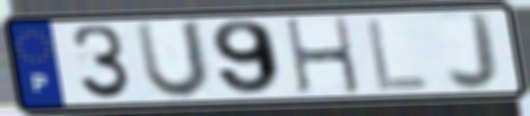3: (68, 23, 135, 103)
9: (211, 17, 287, 99)
H: (281, 14, 364, 97)
J: (444, 9, 502, 94)
L: (363, 15, 432, 94)
U: (131, 17, 213, 102)
